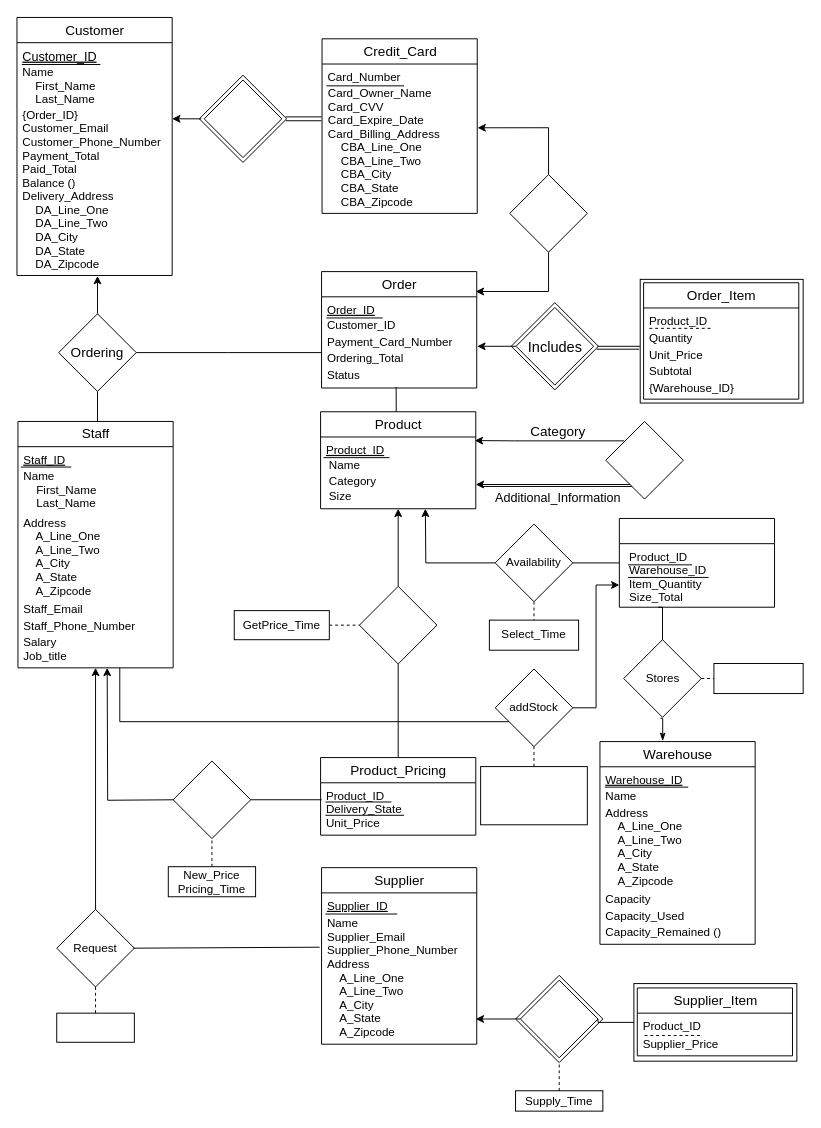
Some shapes in this 821 by 1128 pixel diagram are drawn without their labels. The shapes that lost their labels are listed below. From the top down, each one's centre as x and y in pixels, then its label:
the point at 242,118: Owns
the point at 548,213: PaidWith
the point at 644,459: Label
the point at 696,562: Stock
the point at 397,624: GetPrice
the point at 758,678: Stores_Time
the point at 211,799: Pricing
the point at 533,795: Add_Quantity Add_Size Add_Time
the point at 95,1027: Details
the point at 558,1018: Supplies
